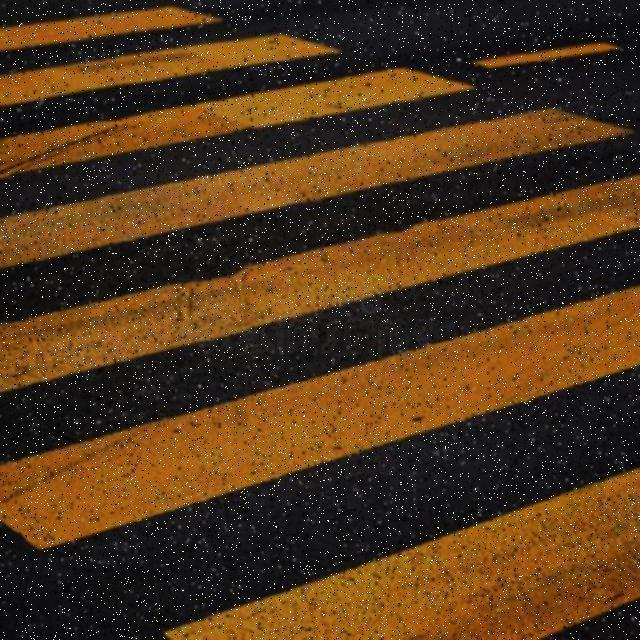crosswalk: (0, 5, 638, 640)
